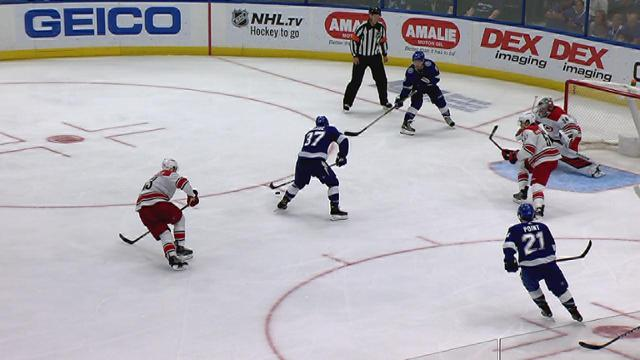geico: (21, 4, 191, 44)
